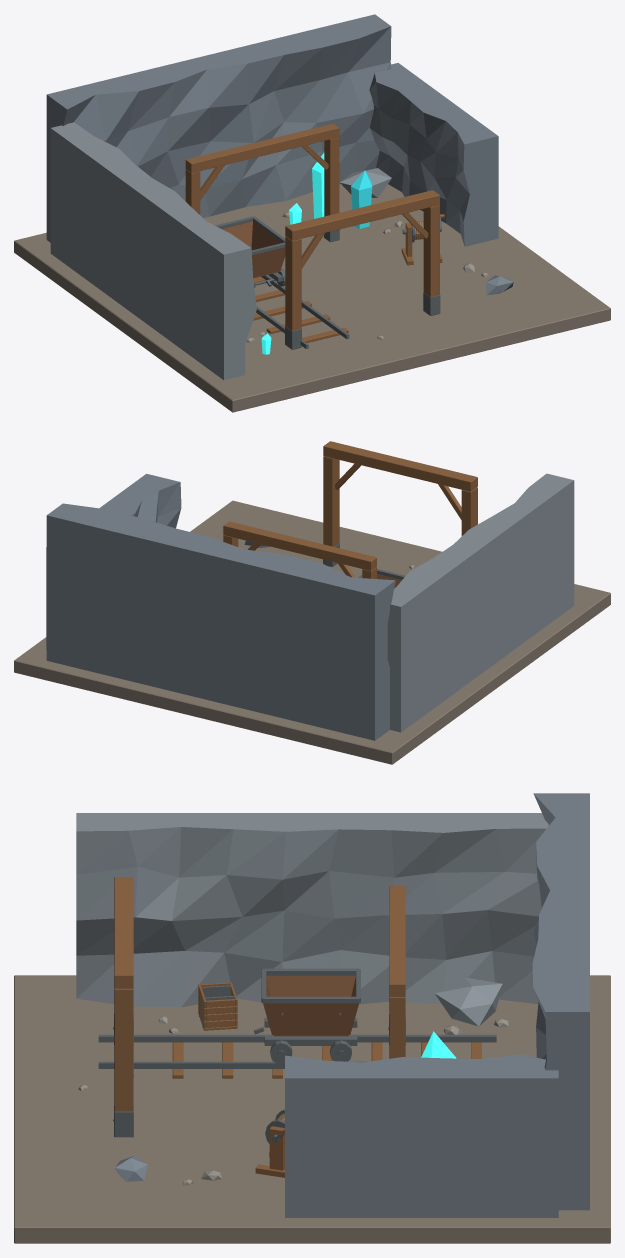
The picture shows the model from 3 angles, top to bottom: view 1: azimuth 30°, elevation 25°; view 2: azimuth 150°, elevation 25°; view 3: azimuth 270°, elevation 25°; orthographic projection. The views are drawn at different scales.
Parts seen in each view (by area): view 1: floor__ground, back_wall__faceted_strata, left_wall__faceted_strata, right_wall__faceted_strata, entrance_support__lintel, inner_support__lintel, entrance_support, inner_support, entrance_support__post_-1, abandoned_cart, abandoned_cart__end_plate_-1, focal_companion__six_sided_growth (+3 smaller); view 2: back_wall__faceted_strata, left_wall__faceted_strata, floor__ground, right_wall__faceted_strata, entrance_support__lintel, inner_support__lintel, entrance_support, entrance_support__post_-1; view 3: left_wall__faceted_strata, floor__ground, right_wall__faceted_strata, back_wall__faceted_strata, abandoned_cart, entrance_support, rail_left__beam, left_boulder__weathered_mass, entrance_support__lintel, abandoned_cart__side_plate_-1, inner_support__lintel, supply_crate (+5 smaller).
Part boxes in pixels (x1,y1,x2,y2): floor__ground: (14,184,610,412); back_wall__faceted_strata: (46,14,391,242); left_wall__faceted_strata: (50,122,256,380); right_wall__faceted_strata: (369,63,498,246); entrance_support__lintel: (285,190,439,240); inner_support__lintel: (185,123,339,173); entrance_support: (402,205,440,315); inner_support: (301,137,339,242); entrance_support__post_-1: (285,236,301,330); abandoned_cart: (215,216,285,286); abandoned_cart__end_plate_-1: (252,247,285,277); focal_companion__six_sided_growth: (351,170,372,228); back_wall__faceted_strata: (46,503,395,740); left_wall__faceted_strata: (387,473,574,732); floor__ground: (14,500,610,764); right_wall__faceted_strata: (46,473,181,649); entrance_support__lintel: (323,441,477,491); inner_support__lintel: (223,521,376,570); entrance_support: (323,456,360,566); entrance_support__post_-1: (461,487,477,535); left_wall__faceted_strata: (76,813,548,1007); floor__ground: (14,975,610,1243); right_wall__faceted_strata: (285,1054,558,1217); back_wall__faceted_strata: (532,793,589,1210); abandoned_cart: (262,969,360,1064); entrance_support: (113,988,133,1137); rail_left__beam: (98,1034,496,1042); left_boulder__weathered_mass: (434,977,502,1026); entrance_support__lintel: (114,877,133,988); abandoned_cart__side_plate_-1: (266,975,355,996); inner_support__lintel: (389,886,405,996); supply_crate: (198,982,237,1028).
Bounding box in the file's own units: 12 × 4.78 × 12.
